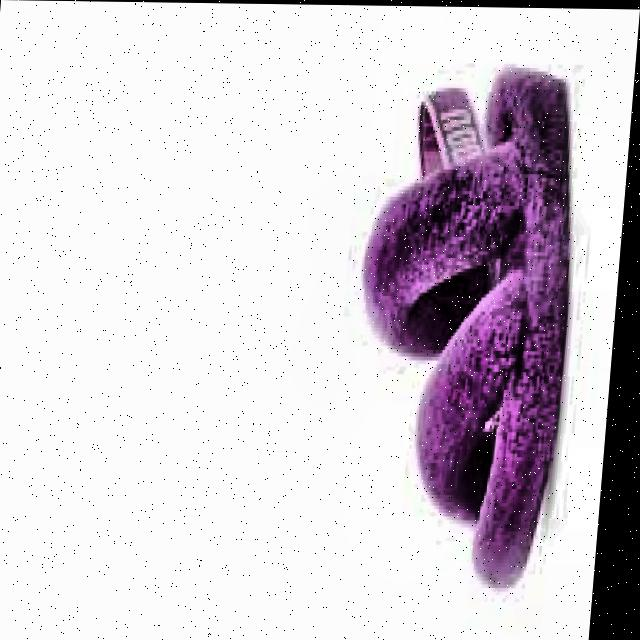shoes: (332, 61, 593, 596)
